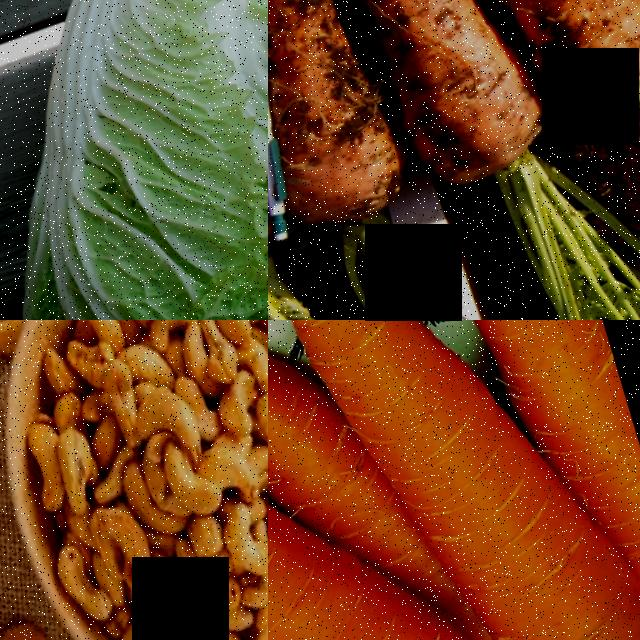cabbage: (0, 0, 268, 320)
carrot: (325, 320, 640, 640), (307, 0, 555, 199), (268, 494, 537, 640), (268, 0, 426, 213), (429, 0, 640, 128)
cashew: (50, 416, 123, 527), (85, 499, 168, 591), (42, 538, 120, 635), (12, 412, 82, 516), (163, 440, 229, 533), (133, 382, 211, 458), (195, 430, 268, 508), (120, 330, 178, 392), (142, 588, 210, 640), (77, 320, 138, 370), (0, 595, 64, 640), (197, 320, 262, 345), (254, 486, 268, 570), (0, 320, 28, 357)
